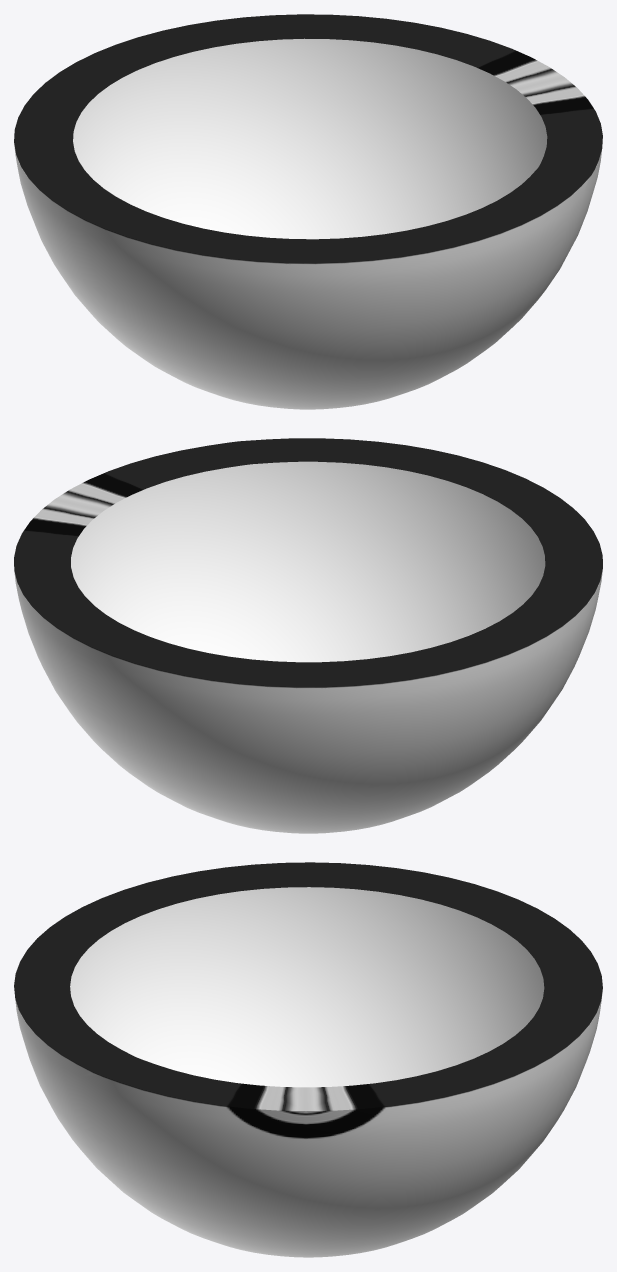
Rendered from poke_abajo.obj.
3 renders of one model, top to bottom at view 1: azimuth 30°, elevation 25°; view 2: azimuth 150°, elevation 25°; view 3: azimuth 270°, elevation 25°, orthographic.
Parts seen in each view (by area): view 1: pokeabajo.001; view 2: pokeabajo.001; view 3: pokeabajo.001.
Boxes of the visible parts, <box> form: pokeabajo.001: <box>14,14,602,409</box>; pokeabajo.001: <box>14,438,602,833</box>; pokeabajo.001: <box>14,862,602,1257</box>.
Size of the model in its own units: 1.41 by 0.6468 by 1.41.
